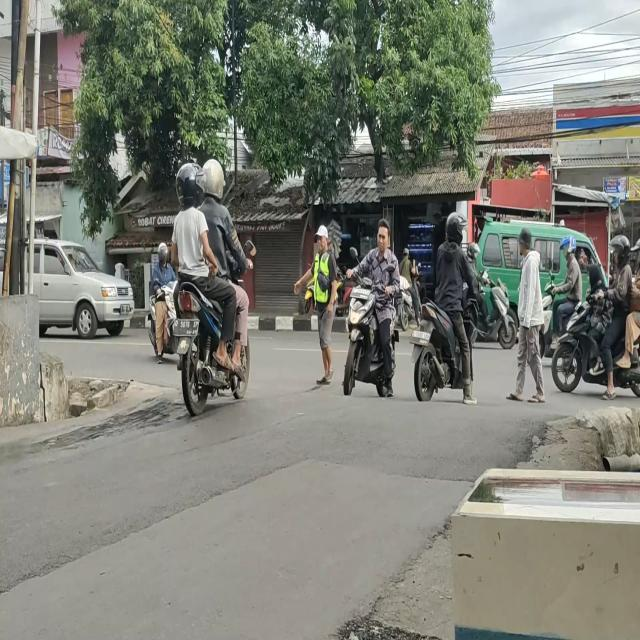helmet: (203, 155, 227, 208), (176, 159, 200, 206), (441, 207, 465, 246), (607, 234, 631, 265), (560, 235, 580, 260), (155, 239, 169, 265), (468, 241, 479, 260)
no-helmet: (372, 218, 390, 256)
